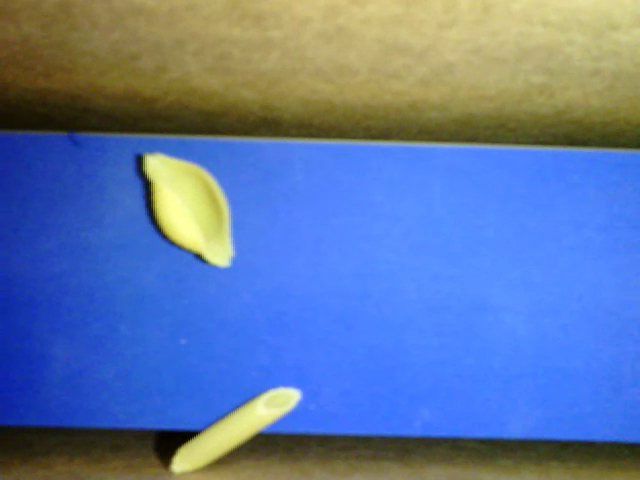penne: (168, 385, 302, 473)
shell: (143, 151, 235, 269)
